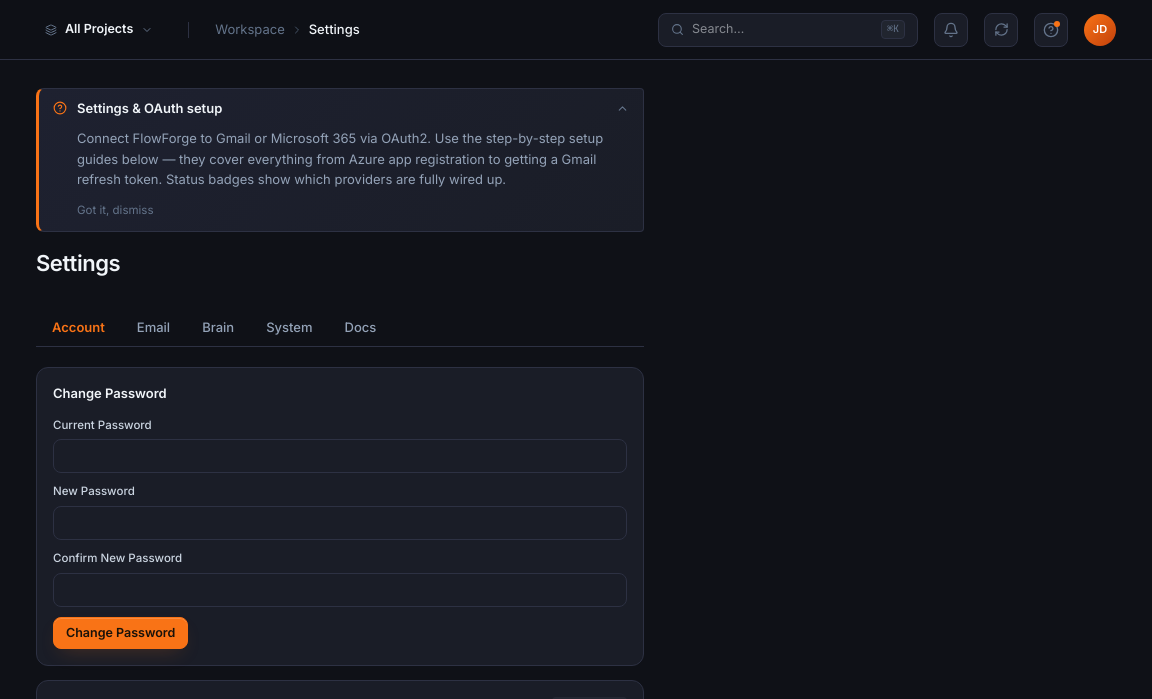
Test: Settings › shows Google OAuth2 section
Click the button "Email". click: (153, 327)
box: [121,308,186,347]
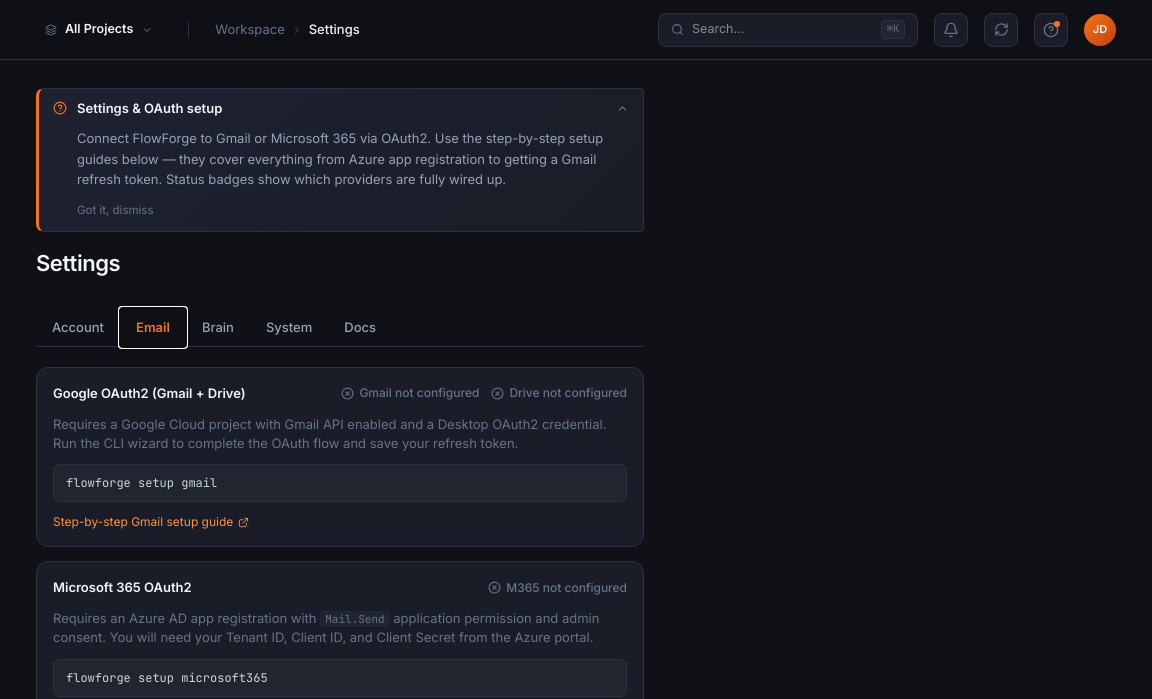
Expected: the text "Google OAuth2 (Gmail + Drive)" is shown, [53,384,246,403]
